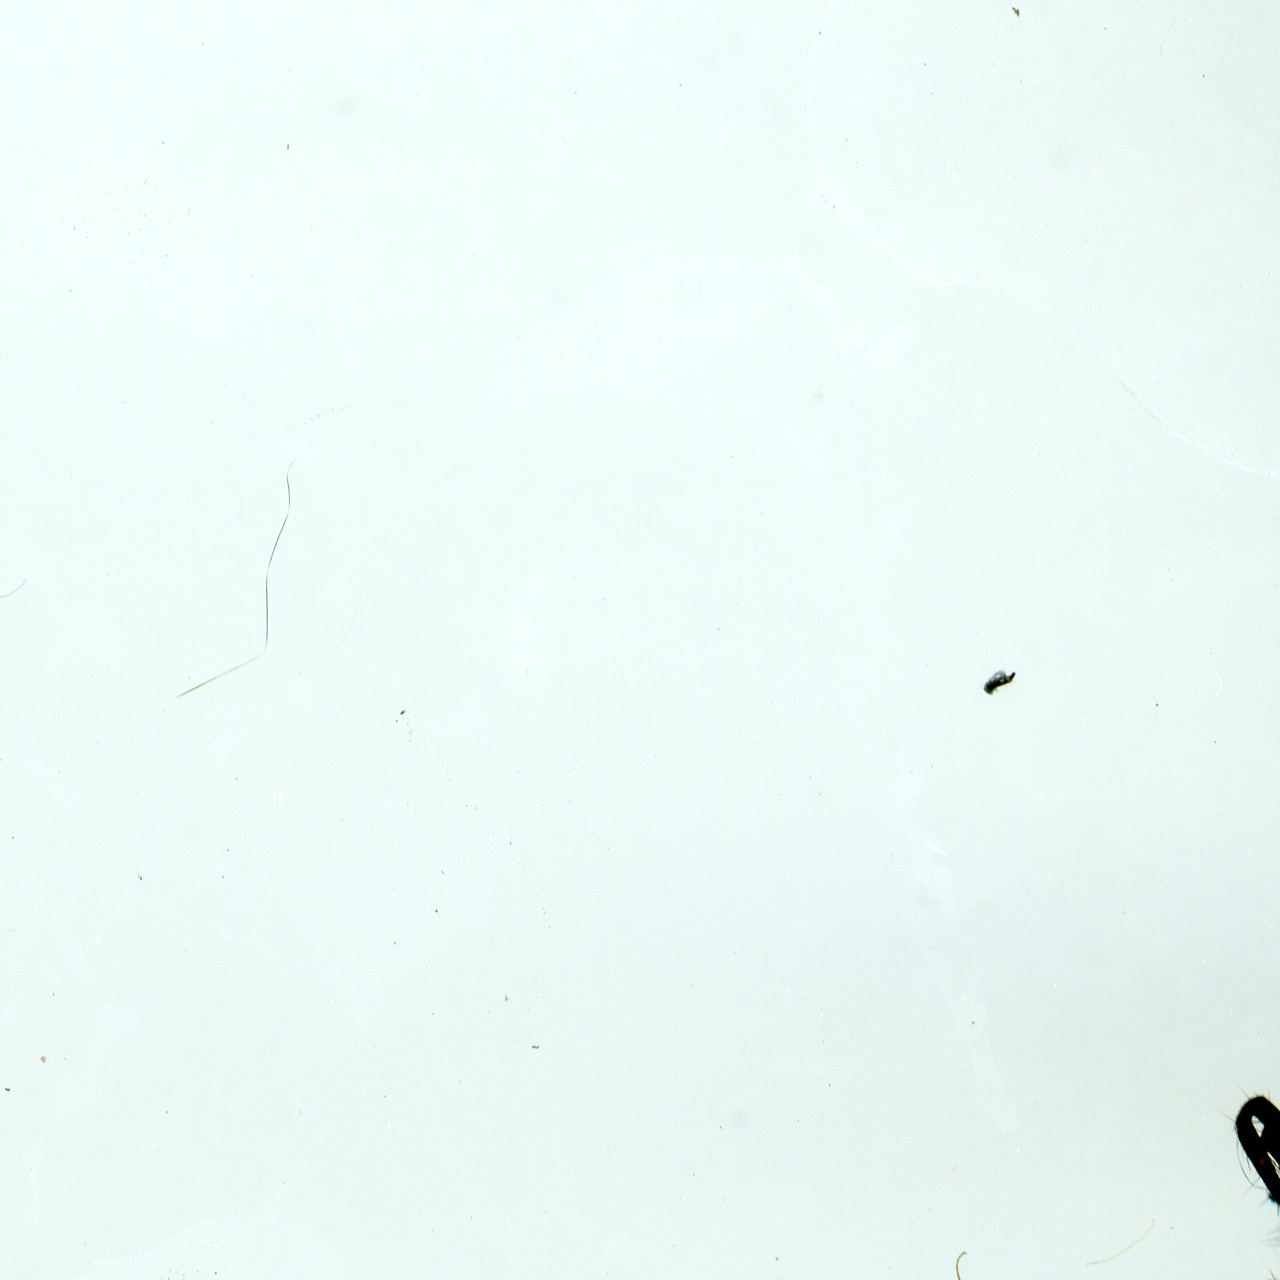arthropod: (1213, 1011, 1280, 1280), (921, 1243, 1089, 1280)
